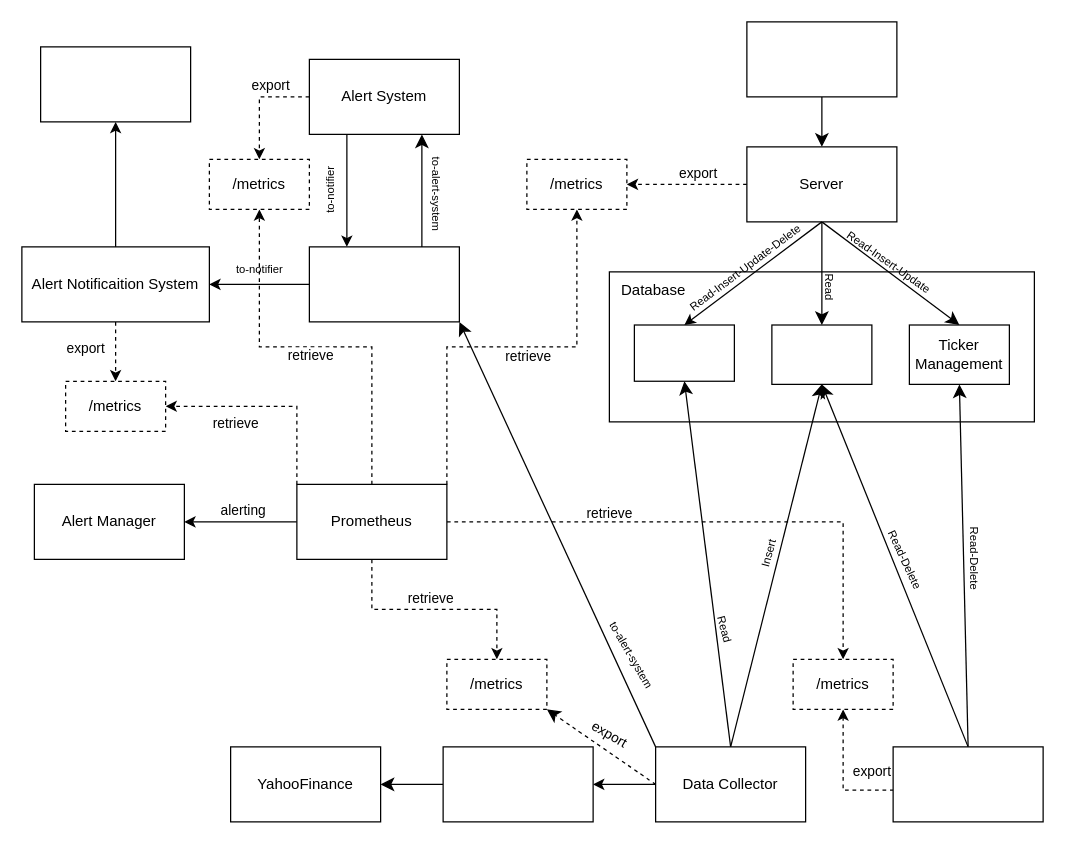
This 1065x844 diagram has some shape labels left out. Each missing label, with the centre of its shape:
"Azioni" belongs at point (821, 354).
"Circuit Breaker" belongs at point (517, 784).
"Client" belongs at point (821, 59).
"Data Cleaner" belongs at point (967, 784).
"Kafka Broker" belongs at point (383, 284).
"SMTP Google" belongs at point (115, 84).
"Utenti" belongs at point (683, 352).
